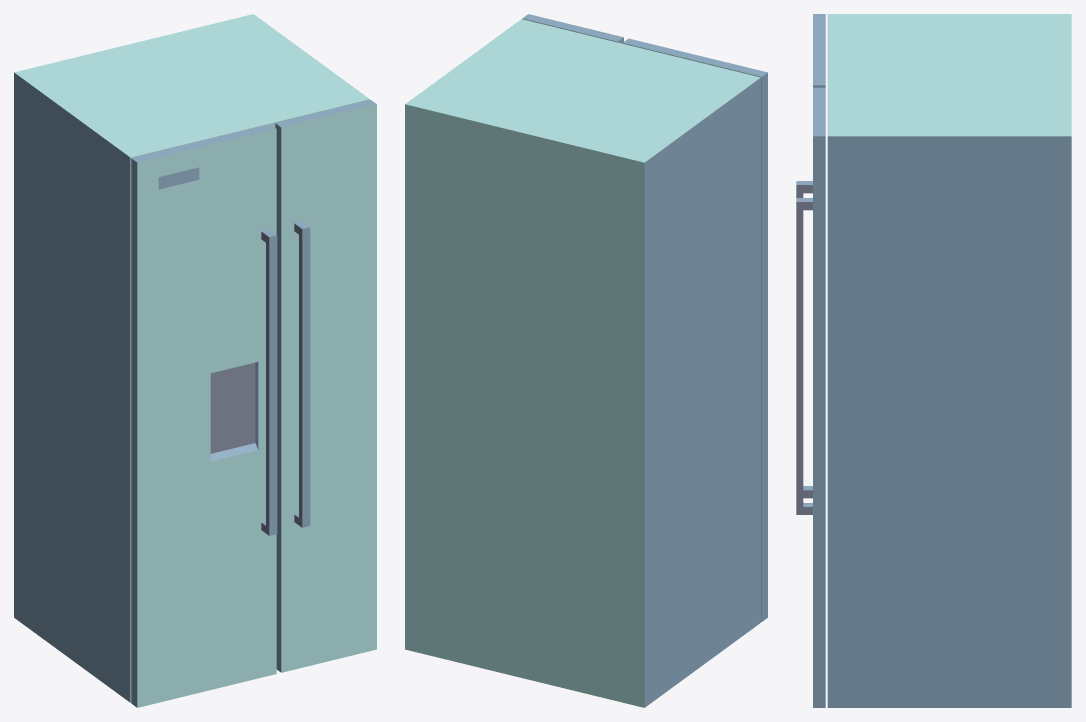
File: Fridge V2.fbx
3 renders of one model, left to right at view 1: azimuth 30°, elevation 25°; view 2: azimuth 150°, elevation 25°; view 3: azimuth 270°, elevation 25°, orthographic. The views are drawn at different scales.
Visible parts, largest first — view 1: Fridge V2; view 2: Fridge V2; view 3: Fridge V2.
Part boxes in pixels (x1,y1,x2,y2): Fridge V2: (14,14,376,707); Fridge V2: (405,14,767,707); Fridge V2: (796,14,1071,707).
Bounding box in the file's own units: 200 × 435 × 190.
